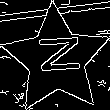N_W: (30, 37, 82, 82)
